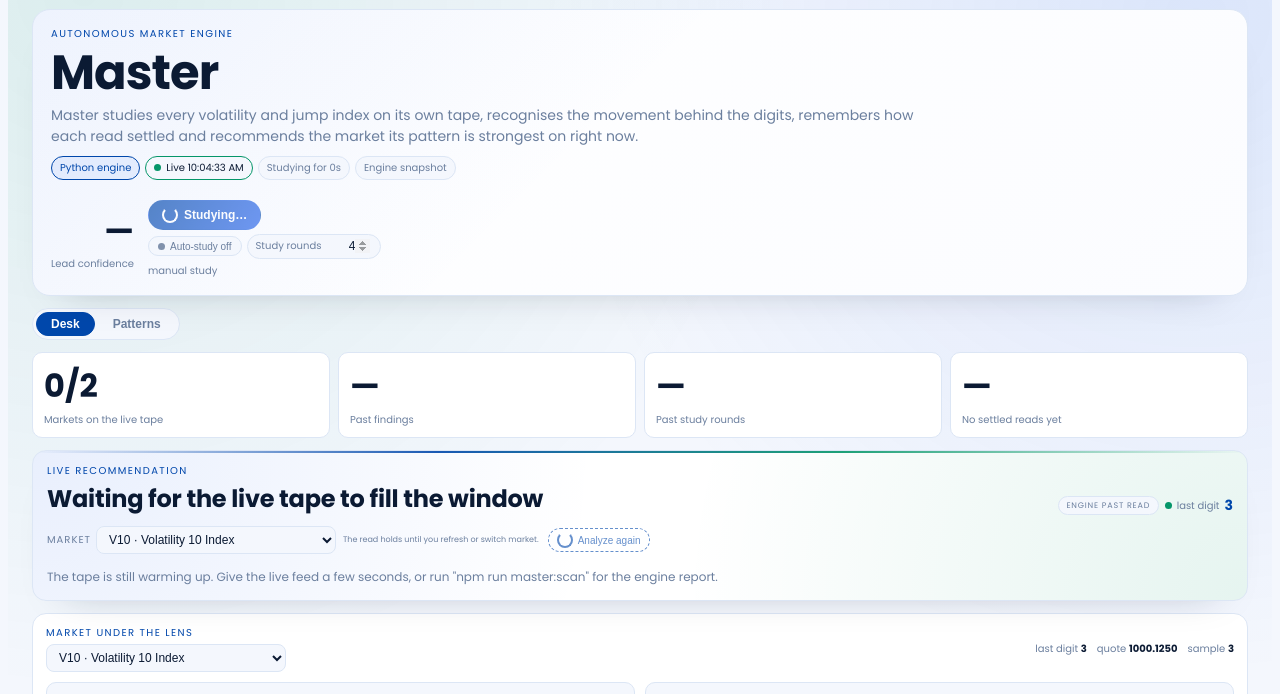
Test: the Master tab › studies one market's patterns against a score floor, and can recall them
This screenshot has width=1280, height=694.
Click the tab "Patterns".
click(137, 324)  # box [98,312,176,336]
(page scrolled)
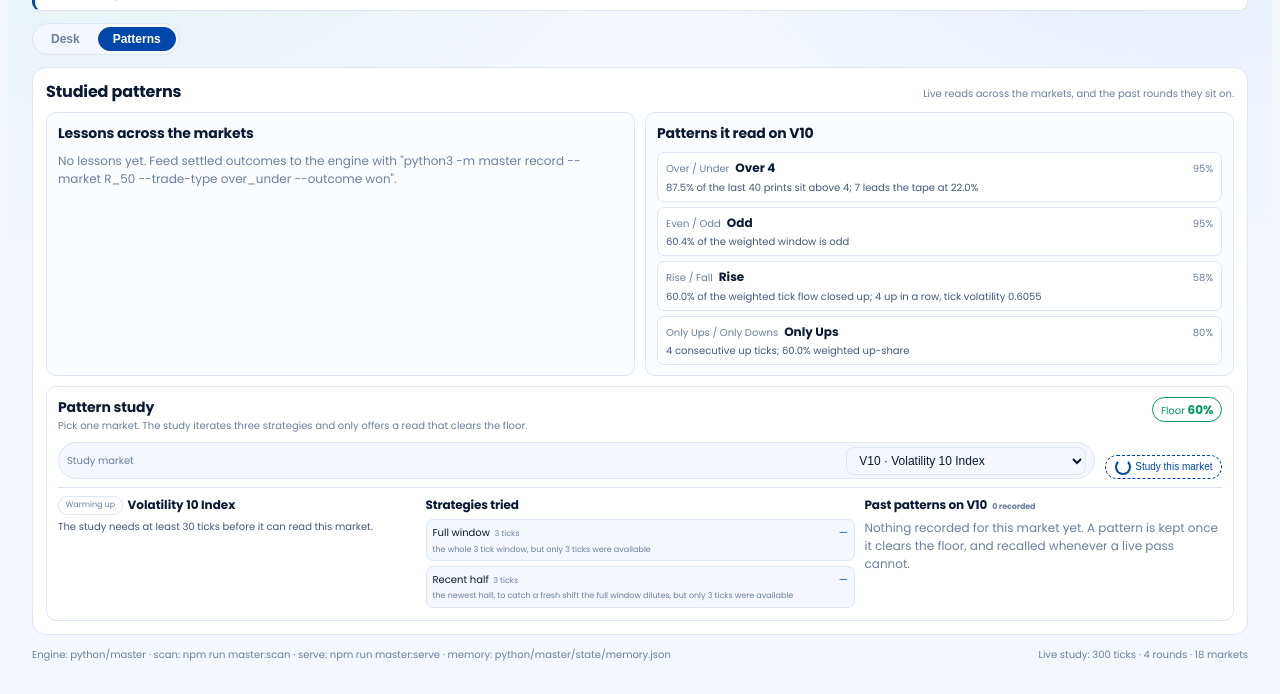
Expected: the heading "Pattern study" is shown, [58,397,154,417]
Expected: the text "Floor 60%" is shown, [1152,397,1222,422]
Expected: the button "Study this market" is shown, [1105,455,1222,479]
Select "V25 · Volatility 25 Index" in the dropdown named "Pattern study market" at (966, 461), box [846,447,1086,475]
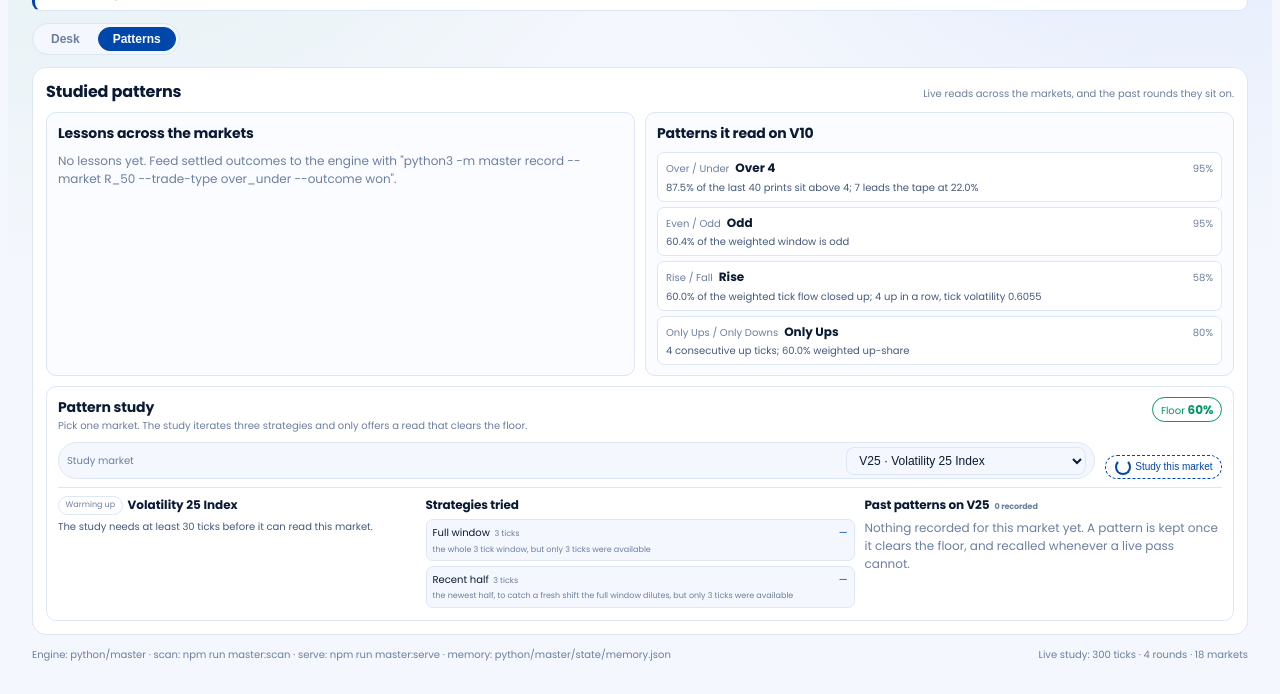
Expected: the heading "Past patterns on V25 0 recorded" is shown, [864,496,1038,513]
